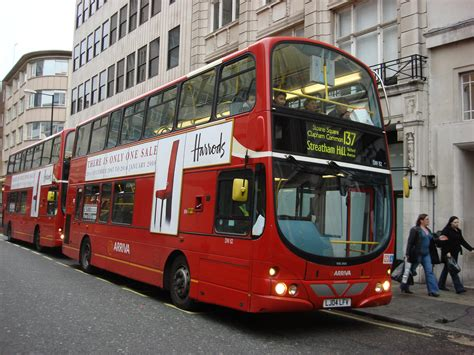bus: (67, 58, 394, 313), (2, 126, 65, 253)
person: (409, 214, 437, 292), (441, 217, 467, 295)
